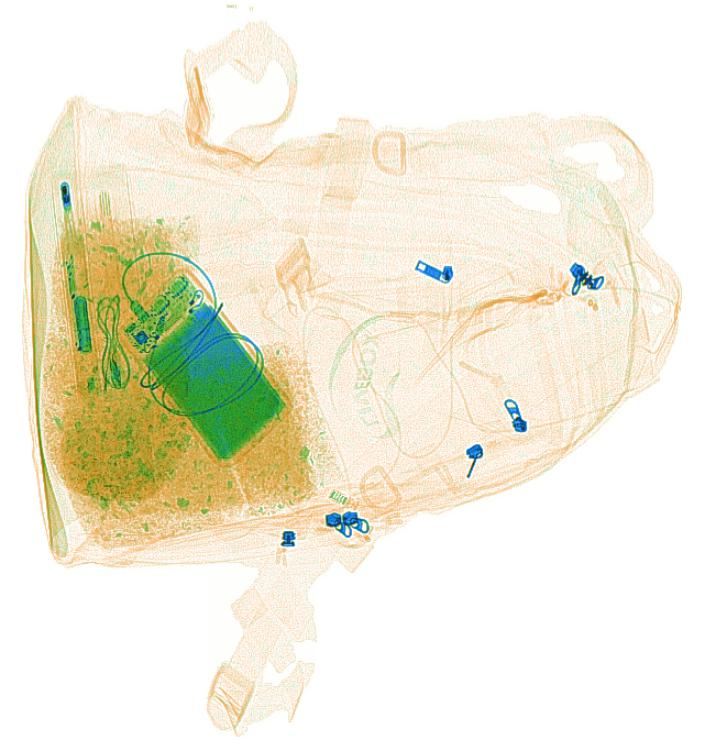battery: (71, 293, 94, 354)
